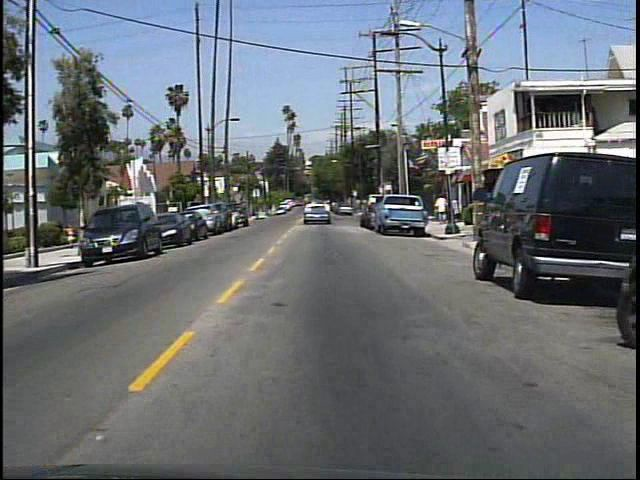person: (433, 192, 449, 228), (66, 221, 82, 250)
